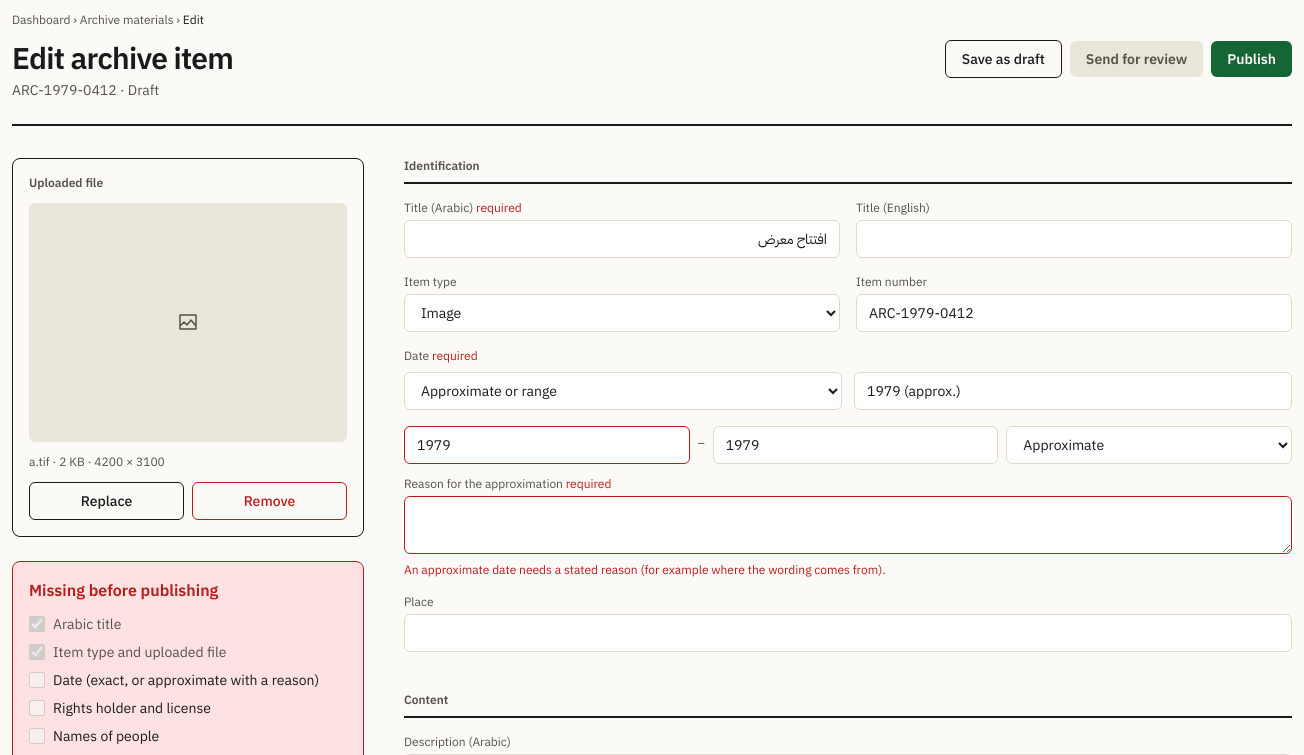
Test case: ArchiveEditPage (edit) › publishes the item and refreshes its status
What coordinates should you click on to do the following:
click the button with test id "publish"
I would click on:
 (1252, 59)
Its box is 1211,41 -> 1292,77.
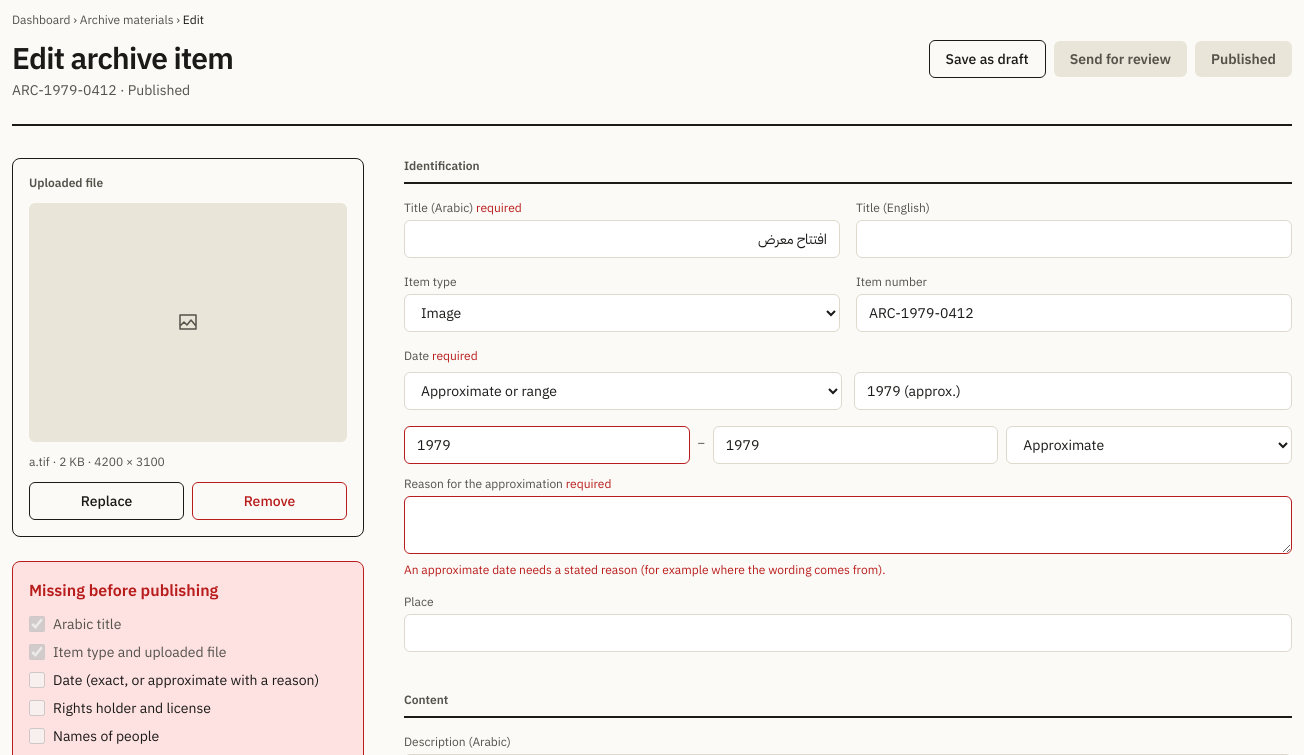
Expected: the button with test id "publish" reads "Published", 1195,41 -> 1292,77
Expected: the button with test id "publish" is disabled, 1195,41 -> 1292,77
